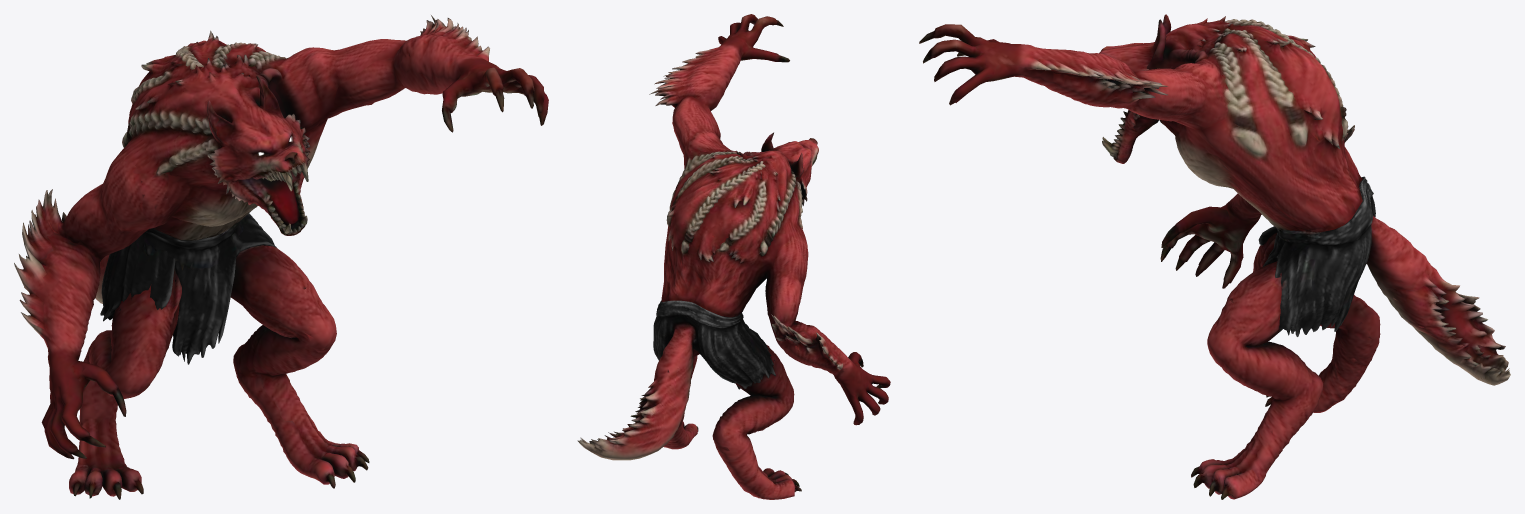
File: MZ4250 - Nightgarm.glb
3 renders of one model, left to right at view 1: azimuth 30°, elevation 25°; view 2: azimuth 150°, elevation 25°; view 3: azimuth 270°, elevation 25°, orthographic. The views are drawn at different scales.
Parts seen in each view (by area): view 1: Body.002; view 2: Body.002; view 3: Body.002.
Boxes of the visible parts, x1,y1,x2,y2 form: Body.002: [14, 15, 548, 499]; Body.002: [577, 14, 890, 499]; Body.002: [919, 14, 1510, 499].
Bounding box in the file's own units: 1.09 × 1.43 × 1.63.
Materials: 1 (1 with a texture image).
